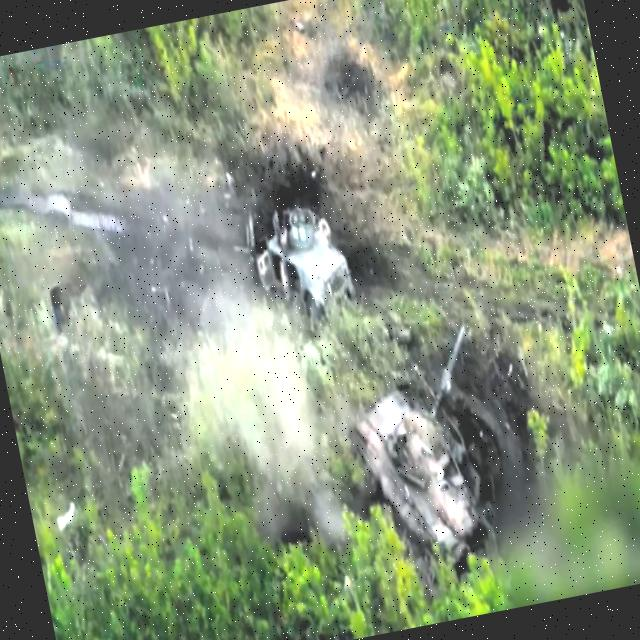MBT: (339, 318, 514, 583)
Vehicle: (245, 196, 367, 338)
